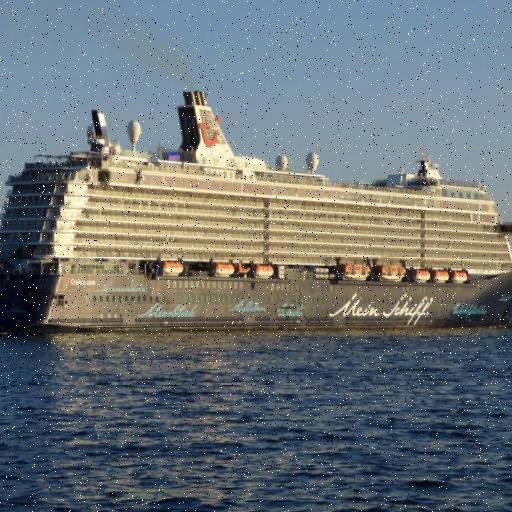cruises: (1, 81, 512, 339)
